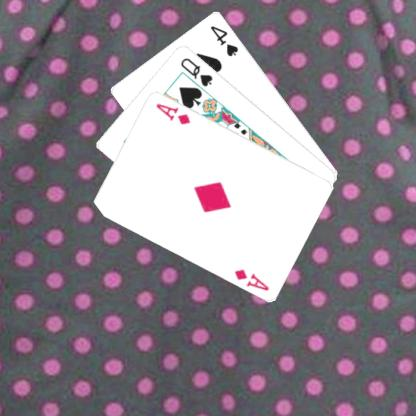4S: (210, 22, 242, 58)
AD: (154, 100, 194, 126), (233, 266, 272, 292)
QS: (179, 54, 216, 88)
